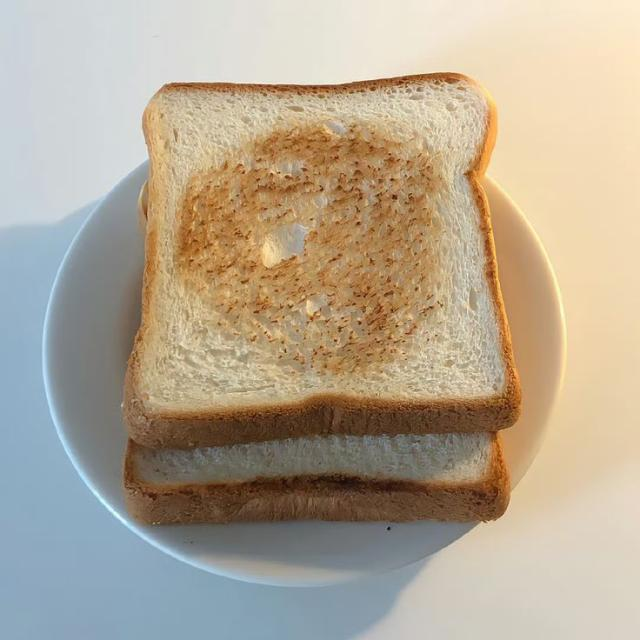toast bread: (122, 73, 520, 447), (123, 431, 509, 523)
